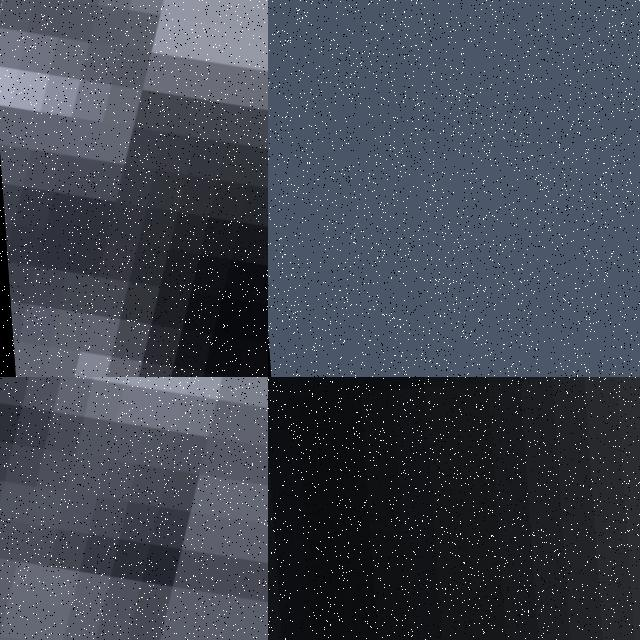drone: (0, 0, 268, 377), (0, 377, 268, 640)
